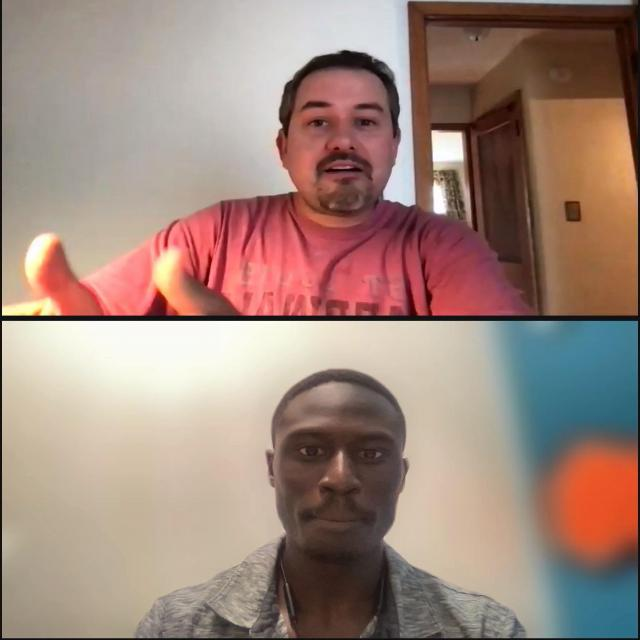face: (263, 366, 410, 564), (274, 48, 401, 218)
